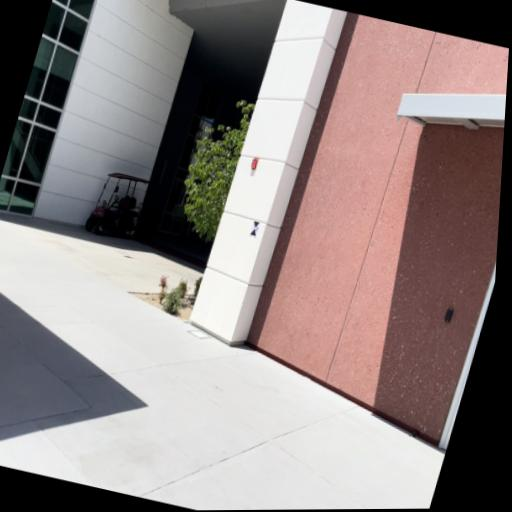target9: (250, 221, 260, 237)
